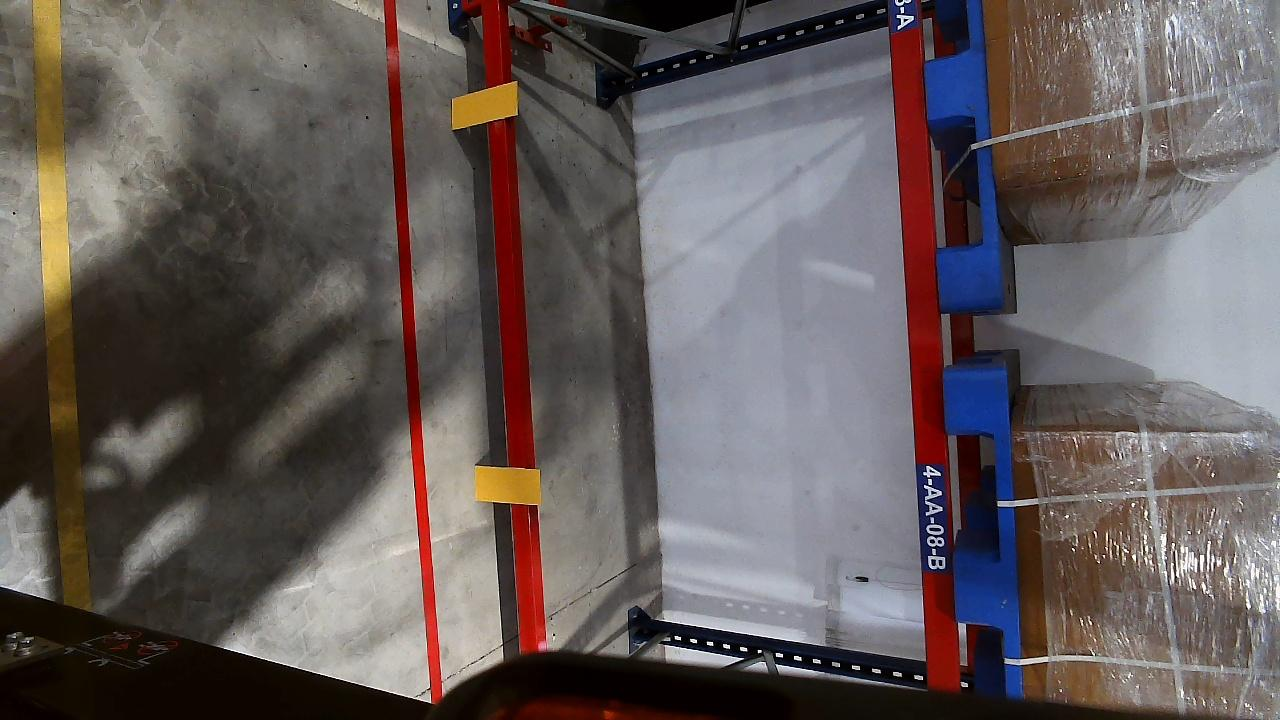h_rack: (478, 0, 552, 646), (874, 0, 931, 685)
orange_strip: (451, 82, 519, 128), (473, 466, 540, 505)
red_line: (381, 0, 465, 687)
small_pallet: (916, 1, 1018, 310), (942, 366, 1030, 691)
yellow_line: (24, 0, 104, 599)
